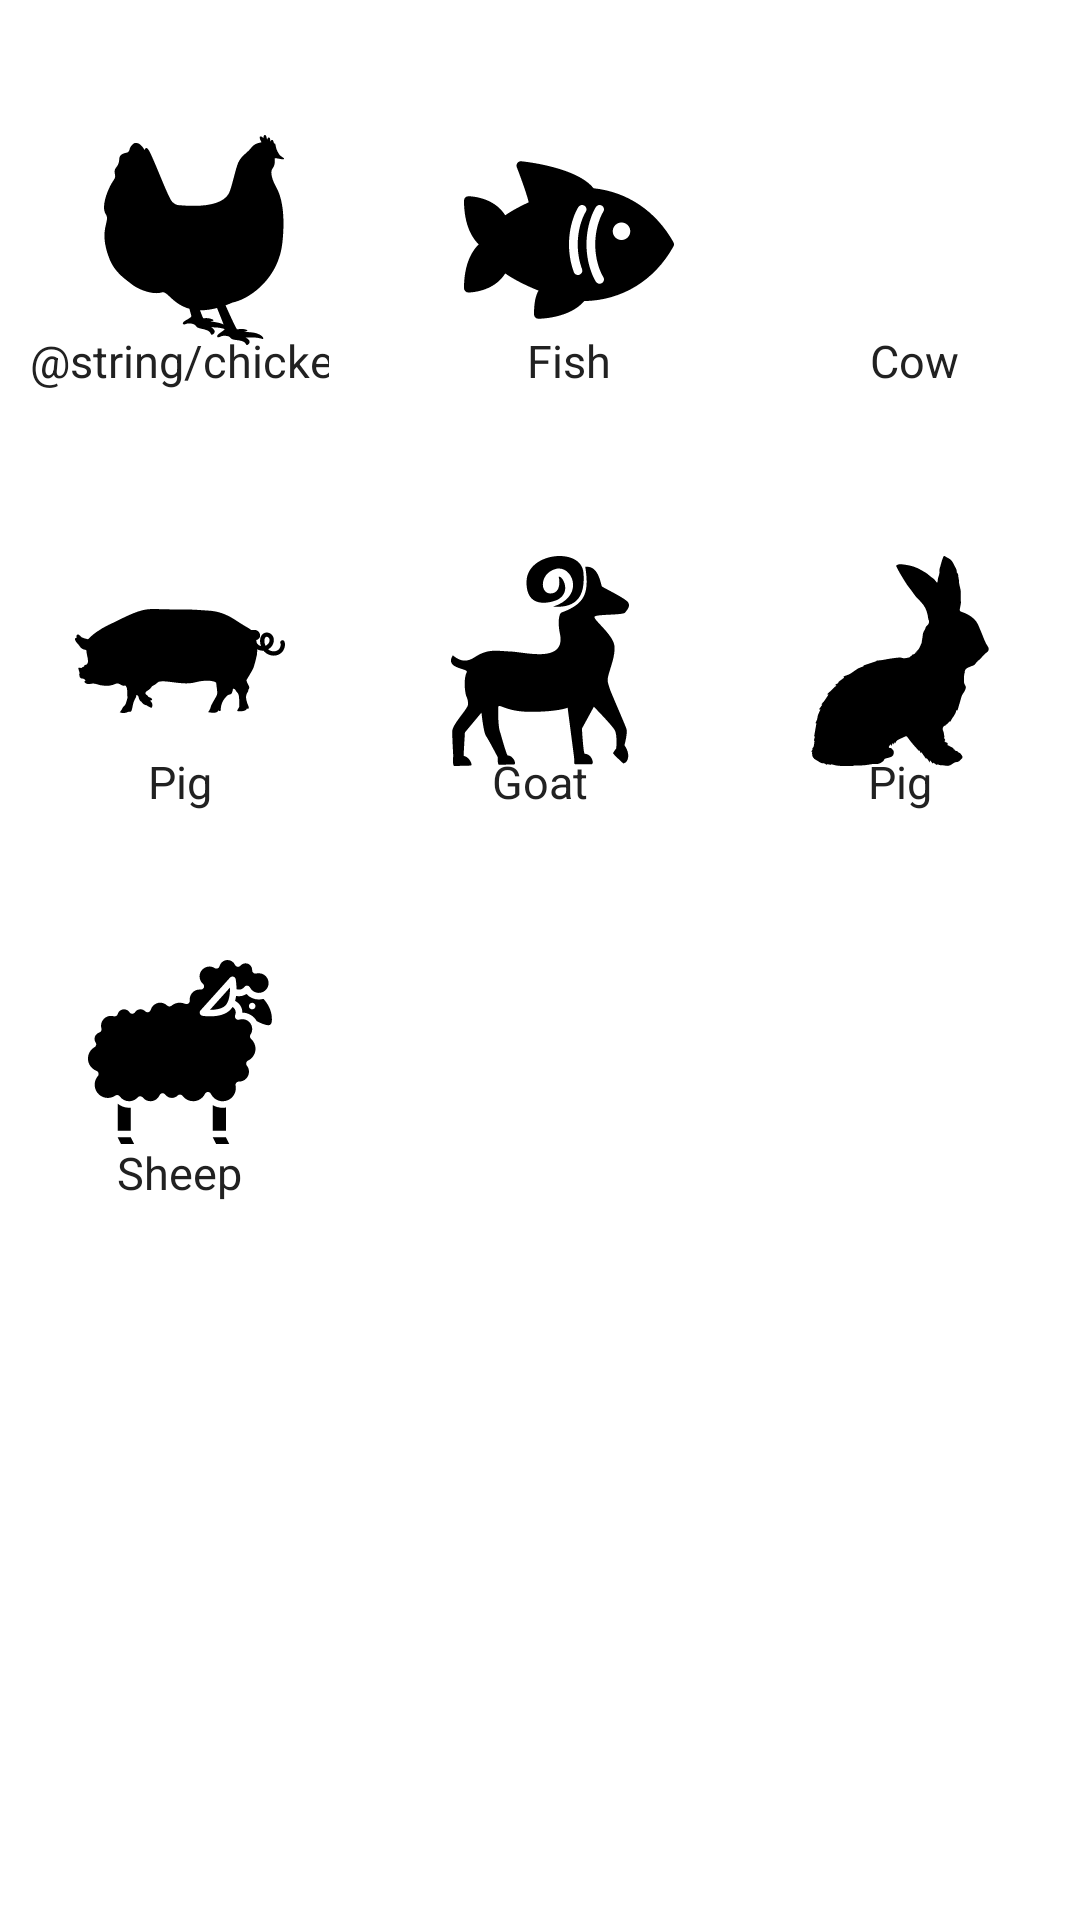

Icons on this 1080 x 1920 Android screen, each with its box as (x1, y1, x2, y2):
rabbit shape: (811, 556, 989, 766)
